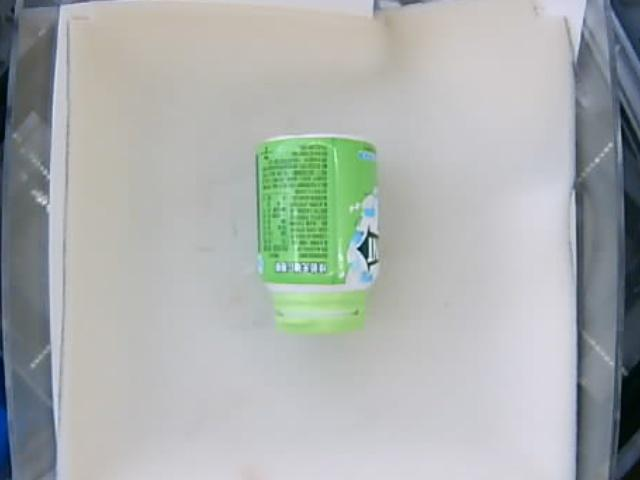Bottle: (256, 135, 380, 338)
